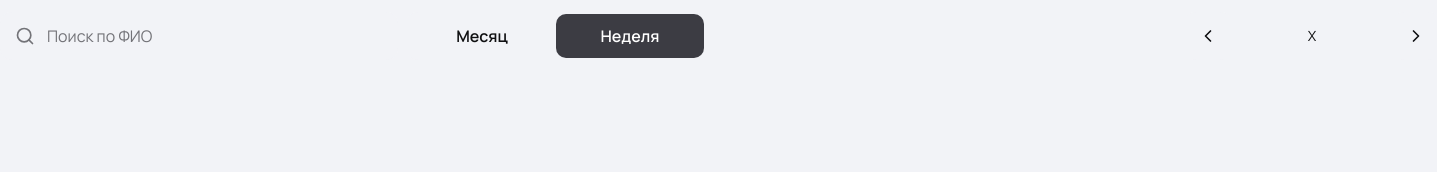
Scenario: ScheduleToolbar › переключатель вида меняет view
This screenshot has width=1437, height=172.
Later steps or results of the test are not shown.
Click the radio button labelled "Месяц": point(482, 36) x1=408 y1=14 x2=556 y2=58
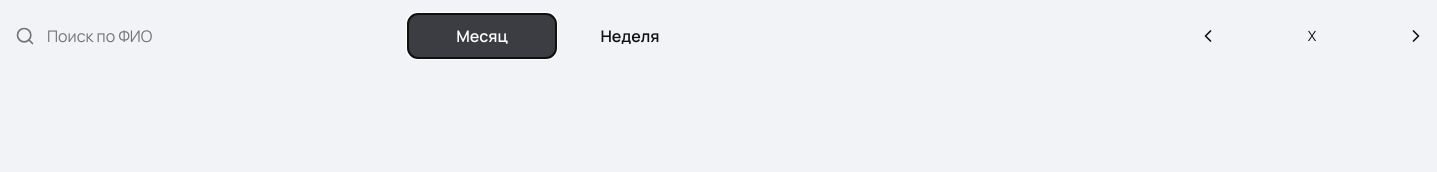
Result: the radio button labelled "Месяц" is checked at x1=408 y1=14 x2=556 y2=58
